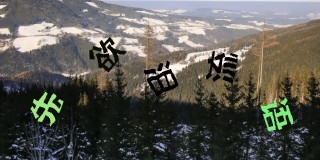先: (28, 90, 65, 126)
欲: (87, 36, 127, 73)
泪: (142, 60, 179, 97)
流: (206, 50, 239, 85)
语: (261, 97, 295, 132)
